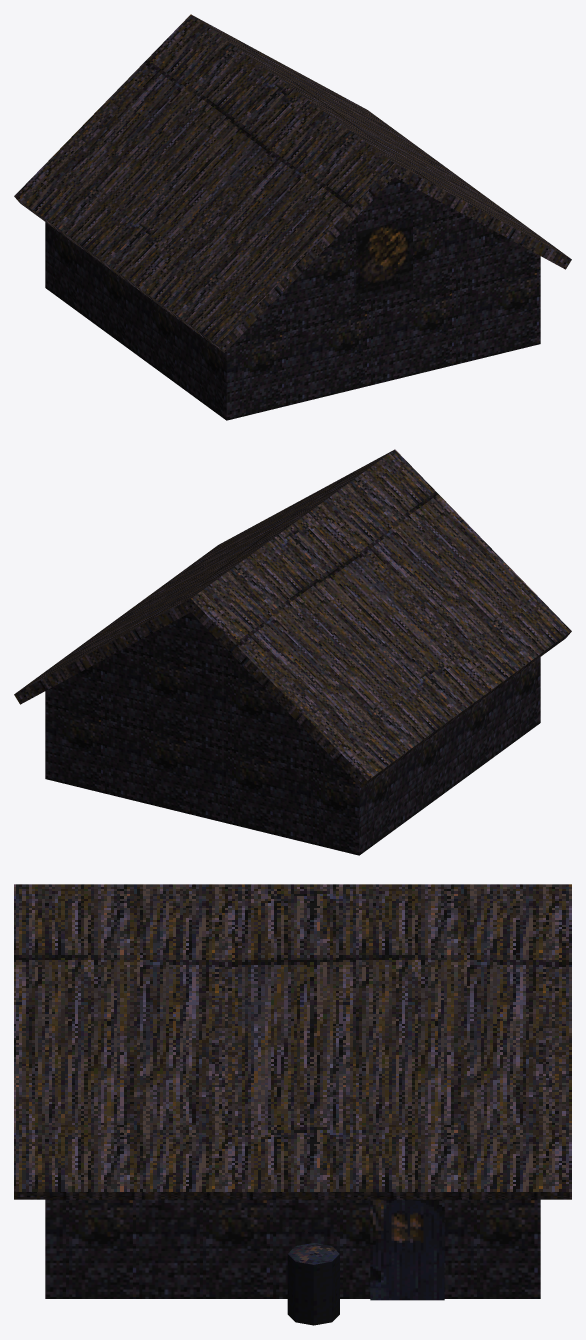
3 views of the same model, one above another, from view 1: azimuth 30°, elevation 25°; view 2: azimuth 150°, elevation 25°; view 3: azimuth 270°, elevation 25° (orthographic). The views are drawn at different scales.
Parts seen in each view (by area): view 1: b_26_48; view 2: b_26_48; view 3: b_26_48.
Part boxes in pixels (box(x1,y1,x2,y2)): b_26_48: box(14, 14, 571, 420); b_26_48: box(14, 449, 571, 855); b_26_48: box(14, 884, 571, 1325).
Size of the model in its own units: 7.92 by 4.6 by 7.5.
Materials: 6 (6 with a texture image).
